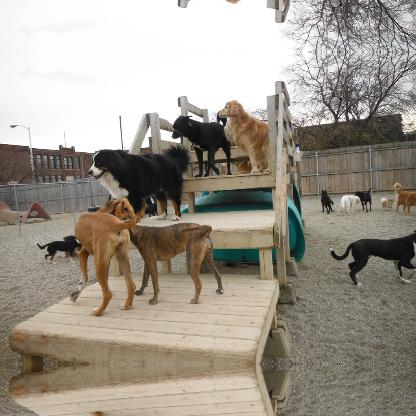Dog: (116, 221, 224, 304), (67, 198, 136, 320), (87, 147, 190, 222), (328, 228, 416, 286), (216, 98, 282, 172), (170, 114, 234, 176), (32, 232, 87, 264), (392, 182, 416, 214), (334, 195, 360, 217), (320, 188, 338, 214), (356, 186, 372, 214), (381, 198, 393, 212)
